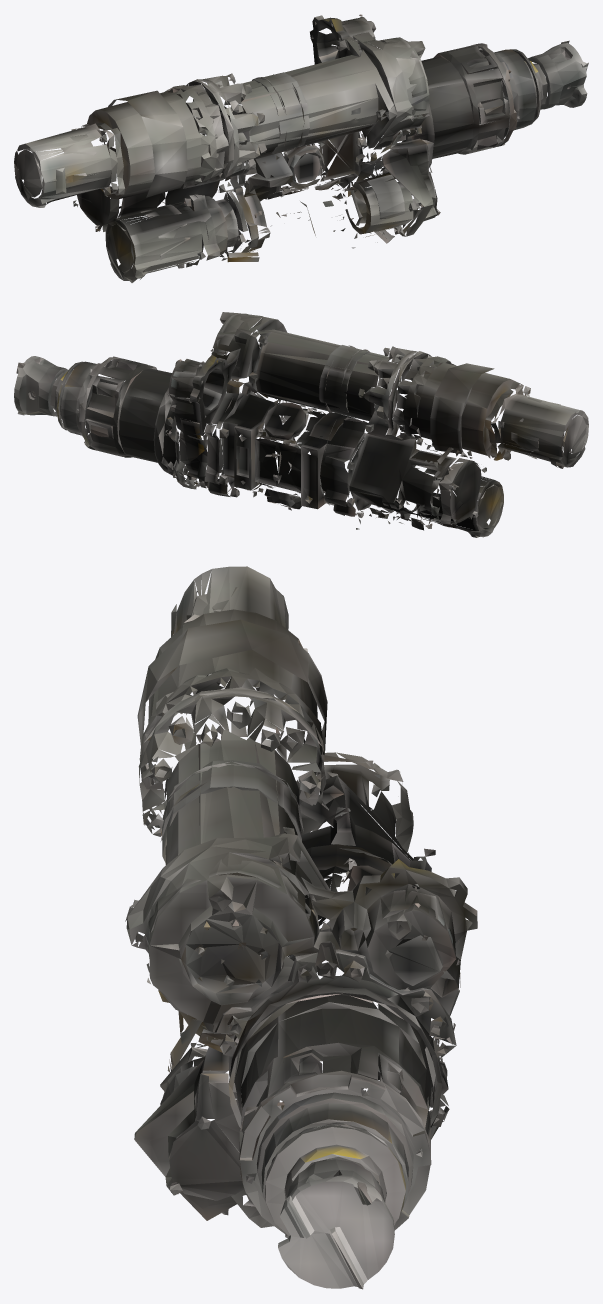
The model's file is DrillCorrerAssy.gltf.
3 renders of one model, top to bottom at view 1: azimuth 30°, elevation 25°; view 2: azimuth 150°, elevation 25°; view 3: azimuth 270°, elevation 25°, orthographic. The views are drawn at different scales.
Parts seen in each view (by area): view 1: Mesh_0; view 2: Mesh_0; view 3: Mesh_0.
Boxes of the visible parts, box(x1,y1,x2,y2) form: Mesh_0: box(14, 14, 588, 282); Mesh_0: box(14, 312, 588, 537); Mesh_0: box(125, 566, 477, 1289).
Bounding box in the file's own units: 0.4895 × 0.1632 × 0.142.
Materials: 1 (1 with a texture image).
